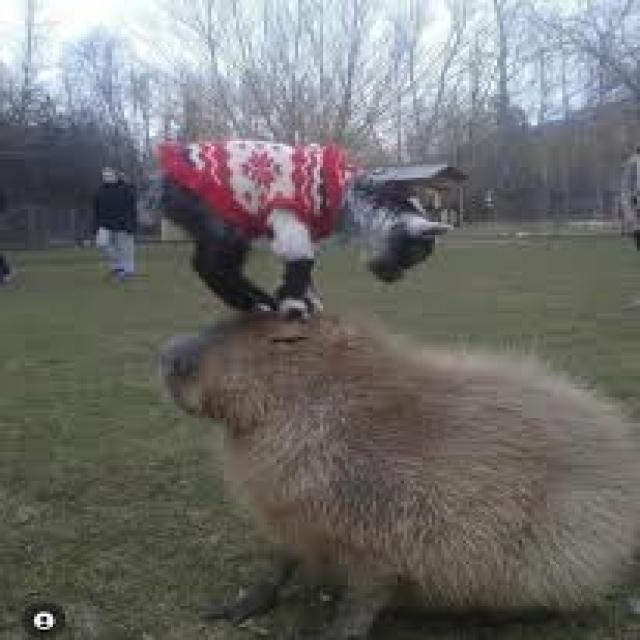capy: (158, 299, 640, 639)
